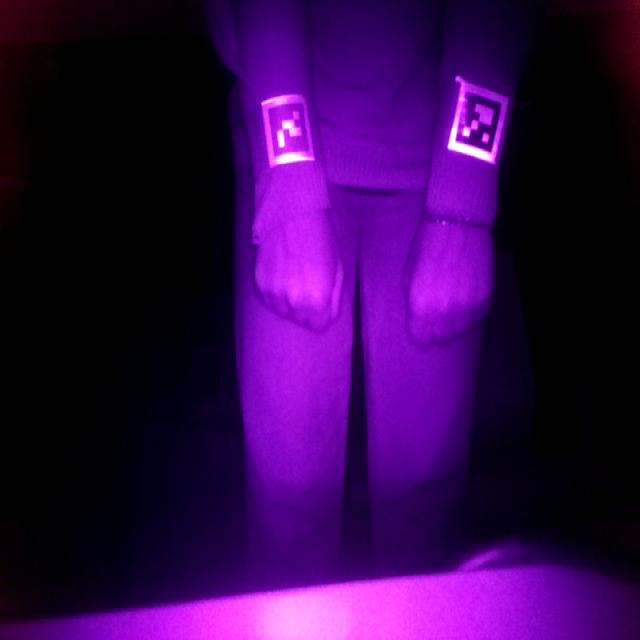Apriltags: (445, 76, 512, 166), (258, 90, 317, 168)
